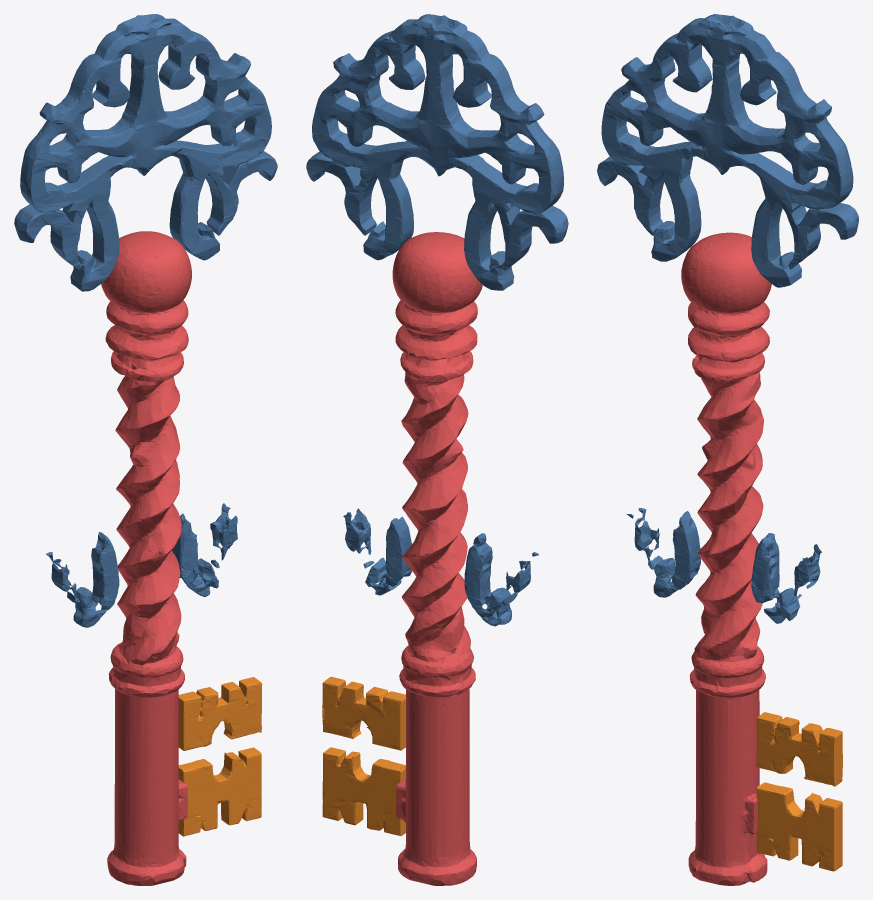
The model's file is key_partcrafter_assembled.glb.
The picture shows the model from 3 angles, left to right: view 1: azimuth 30°, elevation 25°; view 2: azimuth 150°, elevation 25°; view 3: azimuth 330°, elevation 25°; orthographic projection.
Visible parts, largest first — view 1: part_00, part_02, part_01; view 2: part_00, part_02, part_01; view 3: part_00, part_02, part_01.
Part boxes in pixels (box(x1,y1,x2,y2)): part_00: box(14, 14, 277, 627); part_02: box(101, 231, 191, 885); part_01: box(178, 677, 262, 836); part_00: box(306, 14, 568, 626); part_02: box(392, 232, 482, 885); part_01: box(322, 676, 405, 836); part_00: box(597, 14, 858, 623); part_02: box(681, 232, 771, 885); part_01: box(756, 712, 842, 871).
Size of the model in its own units: 0.3144 by 1 by 0.0971.
